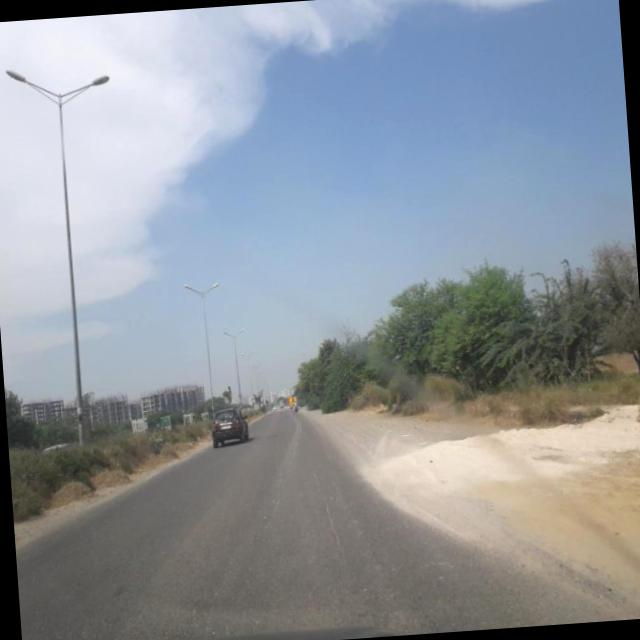pothole: (306, 450, 349, 560)
